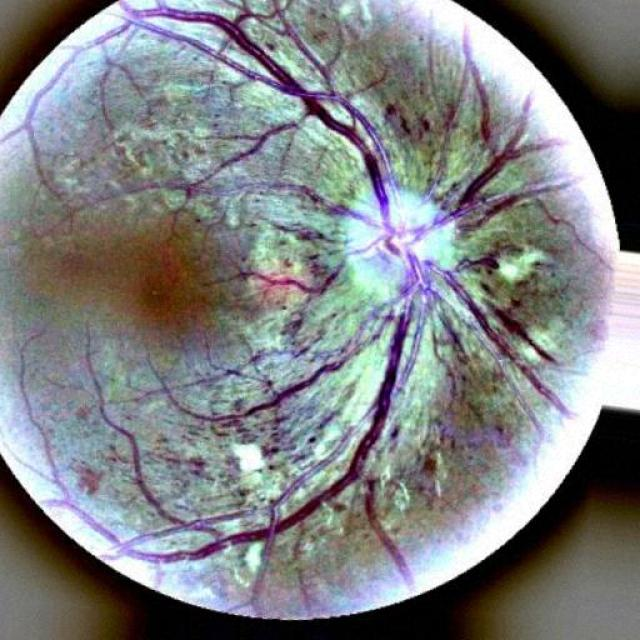Macula: (125, 240, 204, 322)
